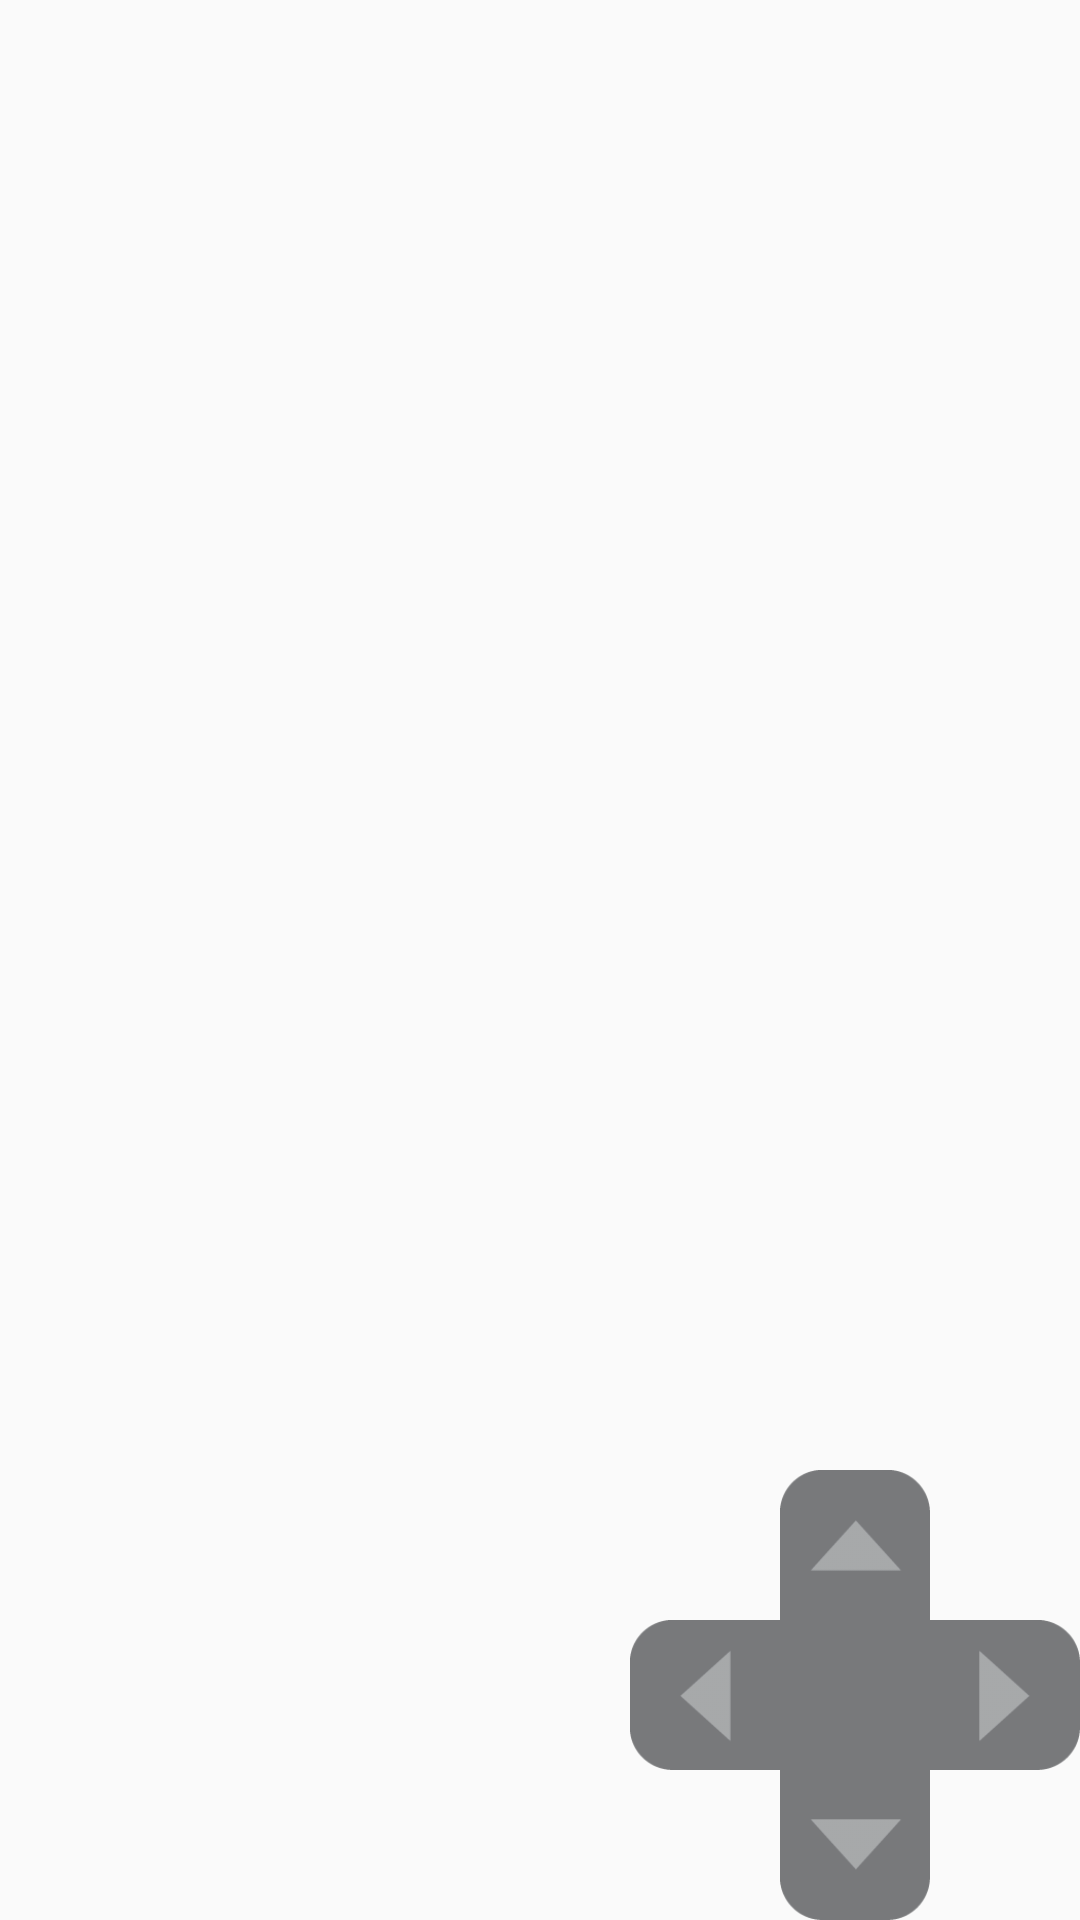

Where to tap for icons on this 1080 × 1920 app screen, as (x=x, y=y):
pad down: (x=855, y=1845)
pad left: (x=705, y=1695)
pad right: (x=1005, y=1695)
pad up: (x=855, y=1545)
